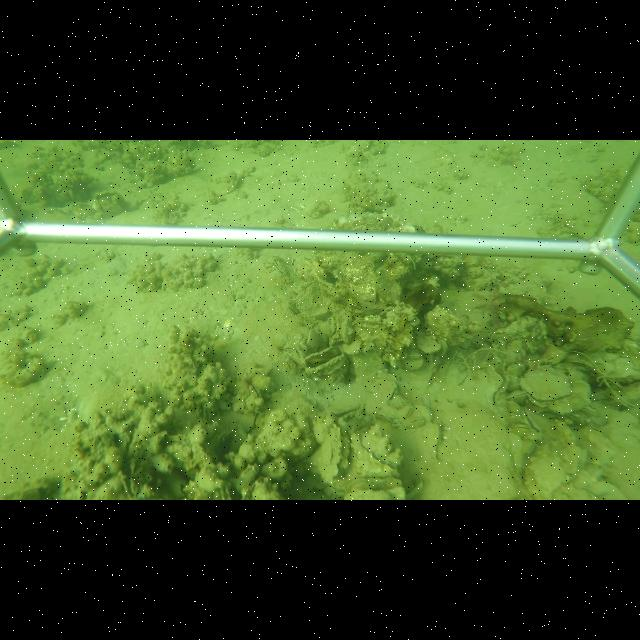Oyster-Closed: (522, 434, 589, 497), (307, 424, 343, 486), (366, 379, 401, 416), (421, 422, 445, 459), (414, 331, 441, 355), (402, 412, 430, 432), (394, 402, 416, 426), (340, 317, 354, 345), (507, 422, 533, 437), (506, 364, 527, 376), (505, 391, 528, 401)
Oyster-Open: (520, 366, 575, 405), (351, 438, 398, 483), (480, 354, 511, 415), (304, 347, 346, 376), (521, 406, 550, 434), (117, 461, 139, 497), (327, 397, 361, 420)
